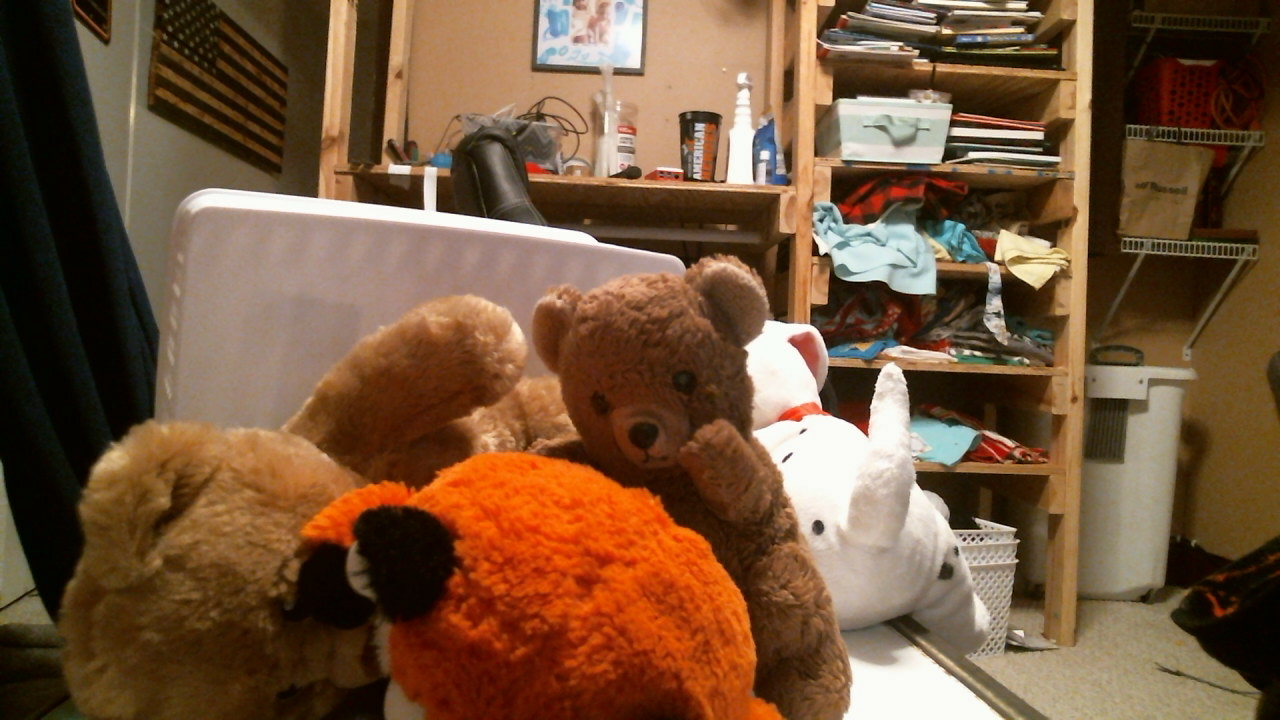Little_Mister_Bear: (590, 369, 715, 483)
